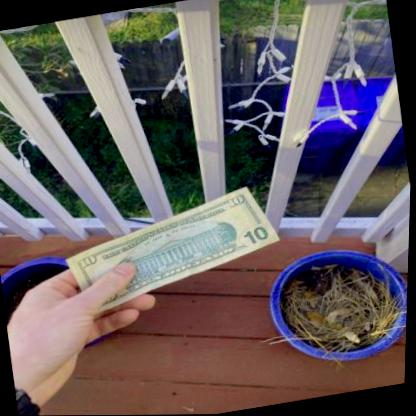ten-back: (67, 186, 282, 315)
